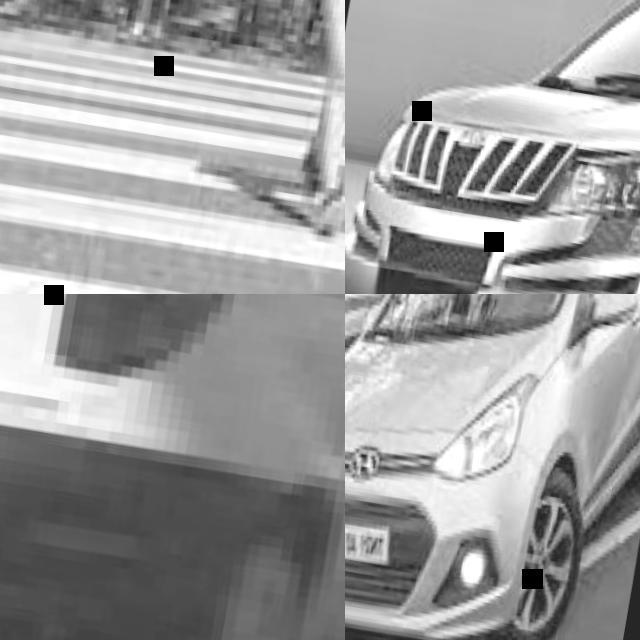car: (352, 40, 639, 461)
